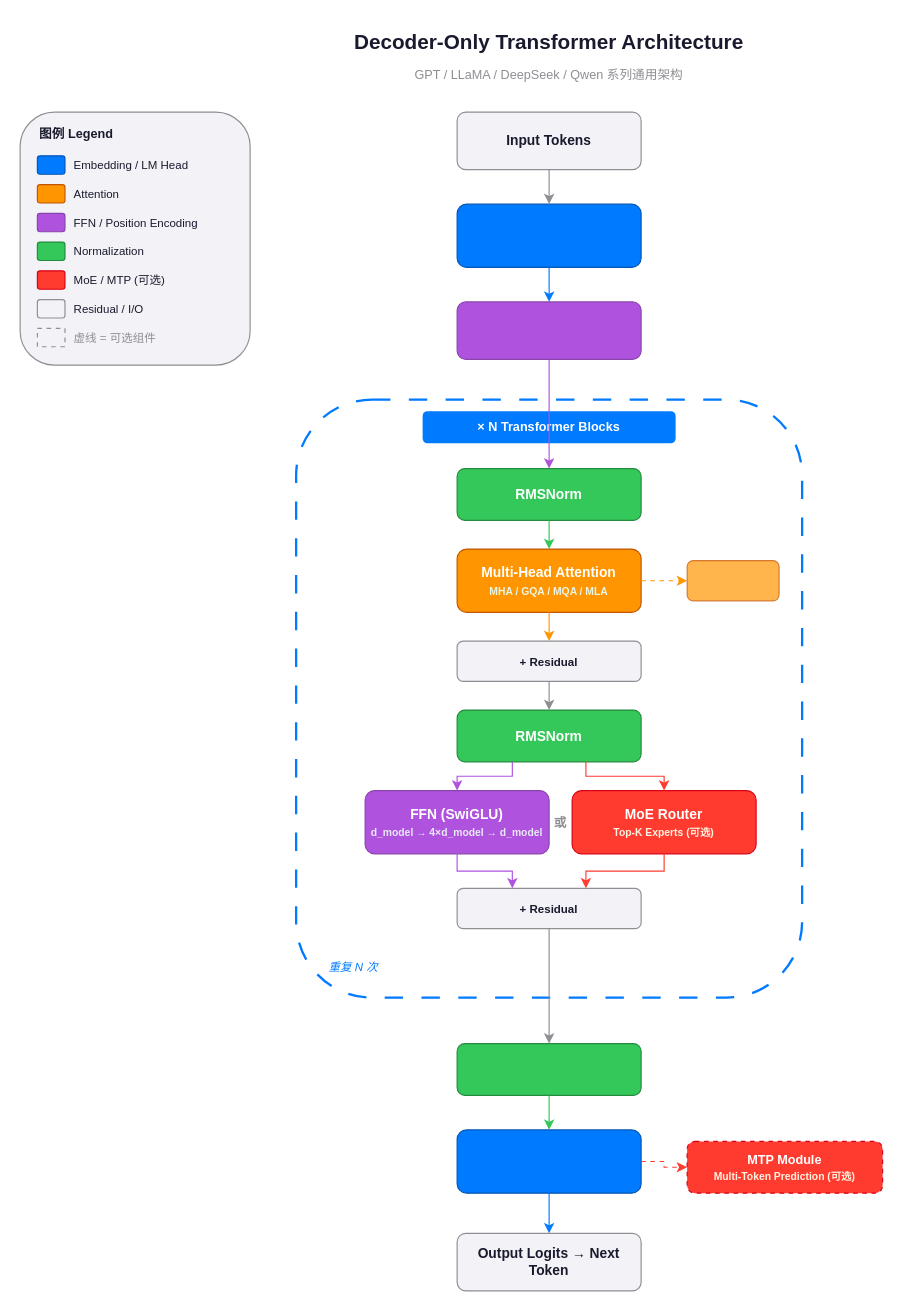
The diagram is 903 pixels wide and 1311 high, and some of its shapes have lost their labels. Each missing label, with the box of its shape:
+ RoPE 旋转位置编码: (456, 301, 641, 359)
KV Cache: (686, 559, 779, 601)
LM Head d_model → vocab_size: (456, 1129, 641, 1193)
RMSNorm (Final): (456, 1042, 641, 1095)
Token Embedding vocab_size × d_model: (456, 203, 641, 267)
